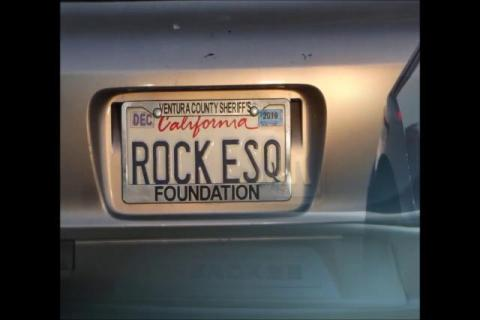LicensePlate: (122, 99, 294, 201)
